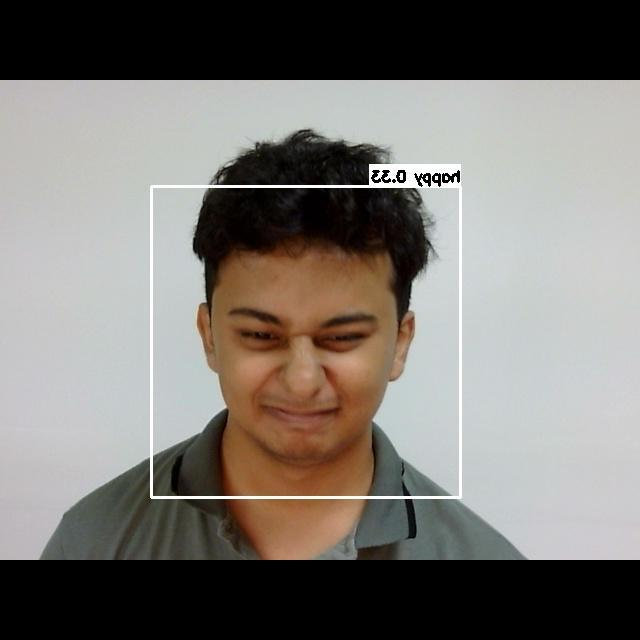Angry: (213, 291, 393, 443)
